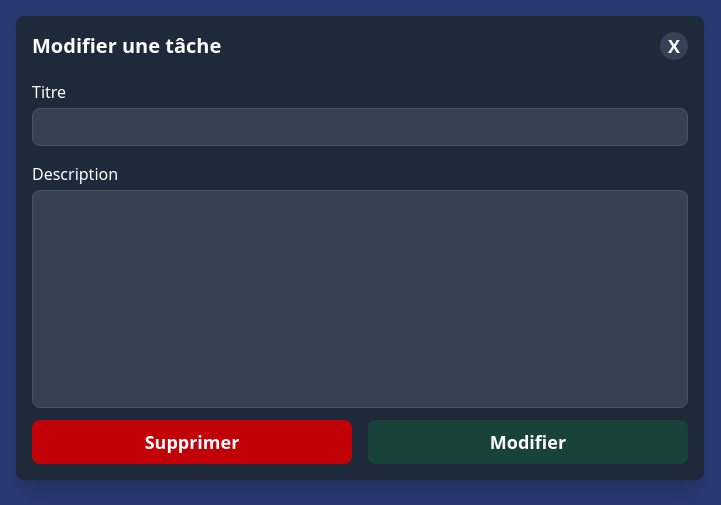
UpdateTaskModal › should be enabled when form is filled
Type "Task Title" into the field at x=360, y=127, box x1=32 y1=108 x2=688 y2=146
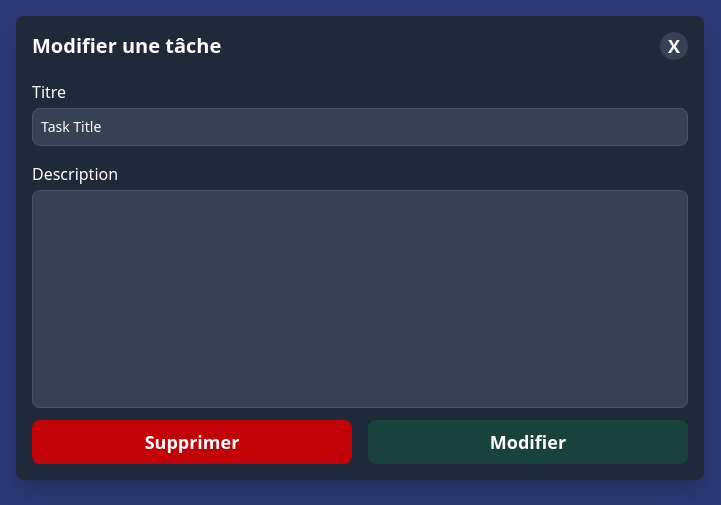
Type "Task Description" into the text box at x=360, y=299, box x1=32 y1=190 x2=688 y2=408
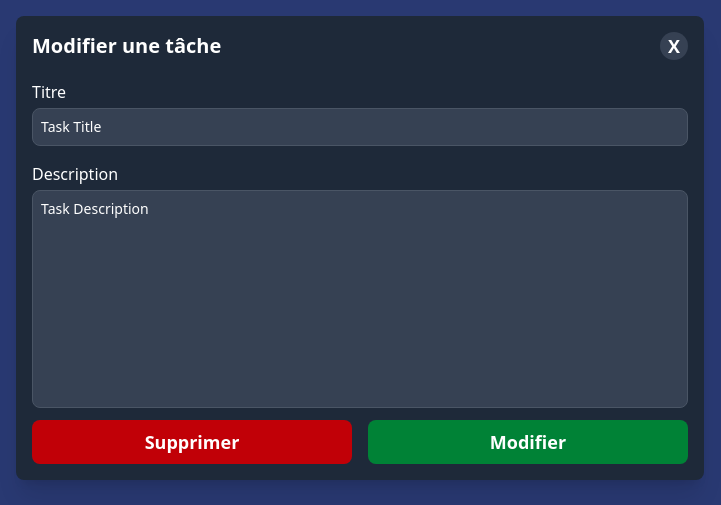
Expected: the button "Modifier" is enabled, x1=368 y1=420 x2=688 y2=464
